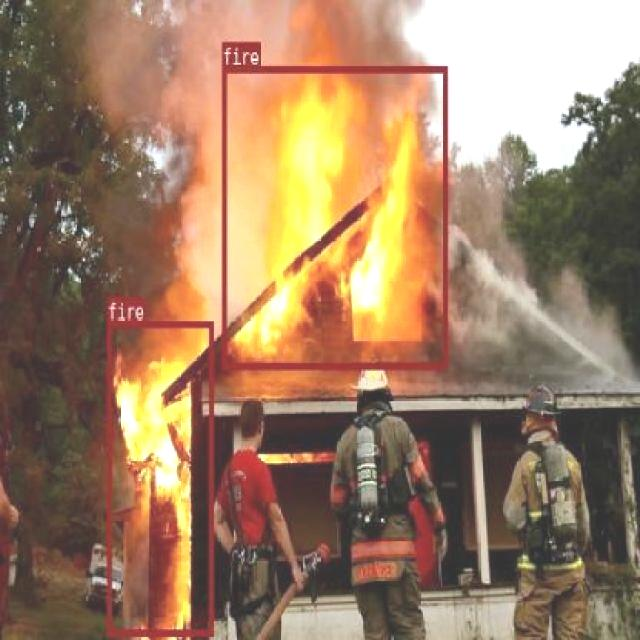fire: (222, 65, 446, 368), (107, 320, 213, 636)
